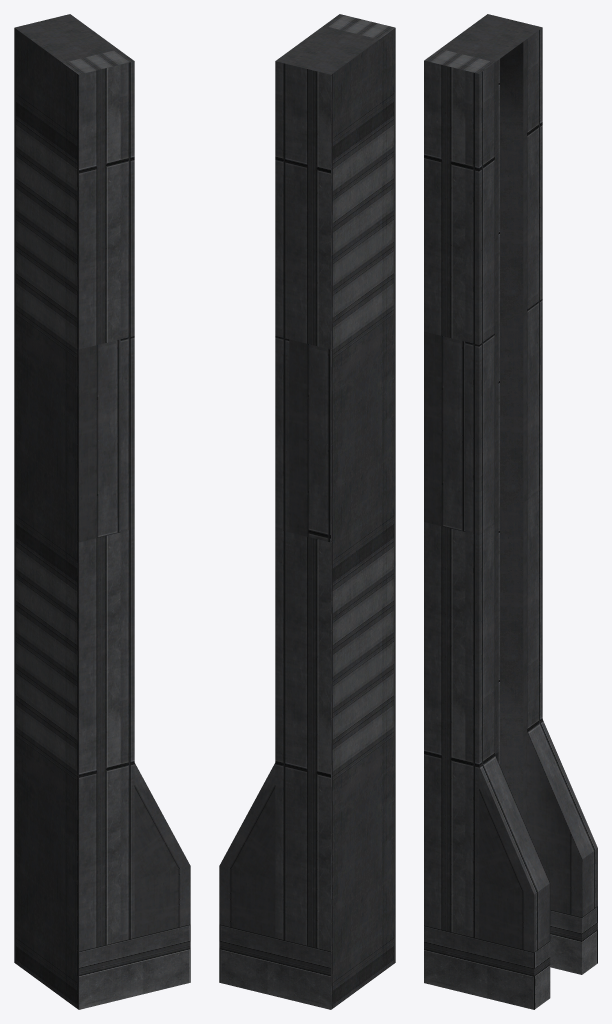
File: Neon_Wall_Lrg_PostSlot_32x4_1.FBX
The picture shows the model from 3 angles, left to right: view 1: azimuth 30°, elevation 25°; view 2: azimuth 150°, elevation 25°; view 3: azimuth 330°, elevation 25°; orthographic projection.
Parts seen in each view (by area): view 1: Neon_Wall_Lrg_PostSlot_32x4_1; view 2: Neon_Wall_Lrg_PostSlot_32x4_1; view 3: Neon_Wall_Lrg_PostSlot_32x4_1.
Part boxes in pixels (<box>): Neon_Wall_Lrg_PostSlot_32x4_1: <box>14,14,190,1009</box>; Neon_Wall_Lrg_PostSlot_32x4_1: <box>219,14,395,1009</box>; Neon_Wall_Lrg_PostSlot_32x4_1: <box>424,14,597,1009</box>.
Bounding box in the file's own units: 4 × 32 × 4.
